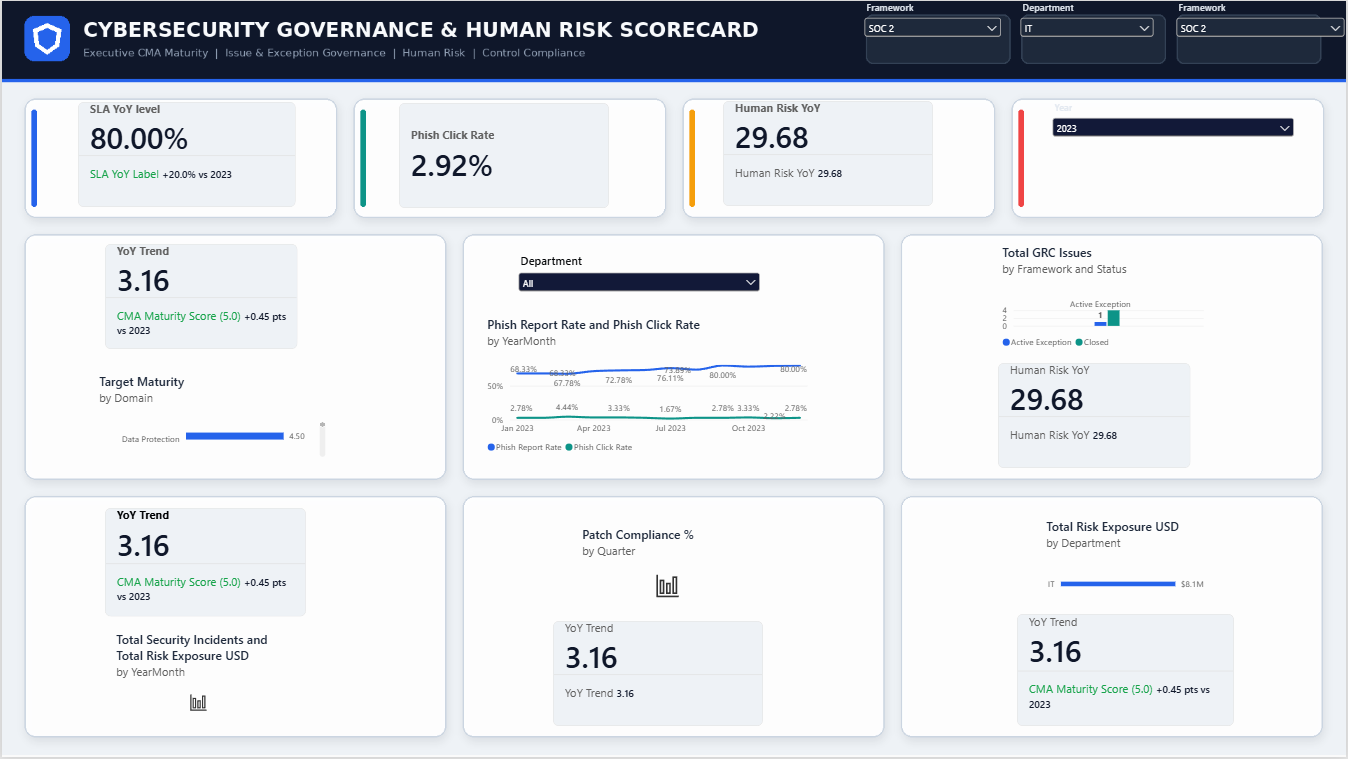

The dashboard page shown, as its layout file describes it:
{"tool":"powerbi","page":{"name":"Executive Scorecard","canvas":[1920,1080],"ordinal":0},"visuals":[{"type":"slicer","fields":{"Values":["dim_date.Year"]},"box":[1495.6,143.3,354.6,150.9],"z":0},{"type":"slicer","fields":{"Values":["fact_grc_issues_exceptions.Framework"]},"box":[1672.5,0,250,105],"z":1000},{"type":"slicer","fields":{"Values":["dim_department.Department"]},"box":[732.5,360,354.6,150.9],"z":2000},{"type":"cardVisual","fields":{"Data":["_Measures.Avg CMA Maturity"]},"box":[147.1,724.3,287.1,155.7],"z":3000},{"type":"cardVisual","fields":{"Data":["_Measures.Avg CMA Maturity"]},"box":[1450,875,310,160],"z":4000},{"type":"cardVisual","fields":{"Data":["_Measures.Avg CMA Maturity"]},"box":[147.1,347.1,275.7,150],"z":5000},{"type":"cardVisual","fields":{"Data":["_Measures.Remediation SLA %"]},"box":[108.8,144.3,311.6,150.6],"z":6000},{"type":"slicer","fields":{"Values":["dim_department.Department"]},"box":[1450,0,200,105],"z":7000},{"type":"slicer","fields":{"Values":["fact_grc_issues_exceptions.Framework"]},"box":[1227.5,0,205,105],"z":8000},{"type":"cardVisual","fields":{"Data":["_Measures.Avg CMA Maturity"]},"box":[787.5,885,300,150],"z":9000},{"type":"cardVisual","fields":{"Data":["_Measures.Avg Human Risk Score"]},"box":[1422.9,517.1,275.7,150],"z":10000},{"type":"cardVisual","fields":{"Data":["_Measures.Avg Human Risk Score"]},"box":[1030,142.5,300,150],"z":11000},{"type":"cardVisual","fields":{"Data":["_Measures.Phish Click Rate"]},"box":[567.5,145,300,150],"z":12000},{"type":"clusteredBarChart","fields":{"Category":["dim_security_domain.Domain"],"Y":["_Measures.Target Maturity"]},"box":[122.5,517.5,355,150],"z":13000},{"type":"lineChart","fields":{"Category":["dim_date.YearMonth"],"Y":["_Measures.Phish Report Rate","_Measures.Phish Click Rate"]},"box":[677.1,435.7,502.9,231.4],"z":14000},{"type":"clusteredColumnChart","fields":{"Category":["fact_grc_issues_exceptions.Framework"],"Series":["fact_grc_issues_exceptions.Status"],"Y":["_Measures.Total GRC Issues"]},"box":[1412.9,332.9,320,184.3],"z":15000},{"type":"clusteredColumnChart","fields":{"Category":["dim_date.Quarter"],"Y":["_Measures.Patch Compliance %"]},"box":[812.5,735,275,140],"z":16000},{"type":"clusteredBarChart","fields":{"Category":["dim_department.Department"],"Y":["_Measures.Total Risk Exposure USD"]},"box":[1475,725,257.5,150],"z":17000},{"type":"lineClusteredColumnComboChart","fields":{"Category":["dim_date.YearMonth"],"Y":["_Measures.Total Security Incidents"],"Y2":["_Measures.Total Risk Exposure USD"]},"box":[147.1,885.7,267.5,150],"z":18000}]}

Visuals, with their boxes in screenshot pixels (x1, y1, x2, y2), scaled from the page's 1920x1080 canvas onto the 1348x759 screenshot:
slicer - dim_date.Year: bbox=(1050, 101, 1299, 207)
slicer - fact_grc_issues_exceptions.Framework: bbox=(1174, 0, 1347, 74)
slicer - dim_department.Department: bbox=(514, 253, 763, 359)
cardVisual - _Measures.Avg CMA Maturity: bbox=(103, 509, 305, 618)
cardVisual - _Measures.Avg CMA Maturity: bbox=(1018, 615, 1236, 727)
cardVisual - _Measures.Avg CMA Maturity: bbox=(103, 244, 297, 349)
cardVisual - _Measures.Remediation SLA %: bbox=(76, 101, 295, 207)
slicer - dim_department.Department: bbox=(1018, 0, 1158, 74)
slicer - fact_grc_issues_exceptions.Framework: bbox=(862, 0, 1006, 74)
cardVisual - _Measures.Avg CMA Maturity: bbox=(553, 622, 764, 727)
cardVisual - _Measures.Avg Human Risk Score: bbox=(999, 363, 1193, 469)
cardVisual - _Measures.Avg Human Risk Score: bbox=(723, 100, 934, 206)
cardVisual - _Measures.Phish Click Rate: bbox=(398, 102, 609, 207)
clusteredBarChart - dim_security_domain.Domain x _Measures.Target Maturity: bbox=(86, 364, 335, 469)
lineChart - dim_date.YearMonth x _Measures.Phish Report Rate: bbox=(475, 306, 828, 469)
clusteredColumnChart - fact_grc_issues_exceptions.Framework x fact_grc_issues_exceptions.Status: bbox=(992, 234, 1217, 363)
clusteredColumnChart - dim_date.Quarter x _Measures.Patch Compliance %: bbox=(570, 517, 764, 615)
clusteredBarChart - dim_department.Department x _Measures.Total Risk Exposure USD: bbox=(1036, 510, 1216, 615)
lineClusteredColumnComboChart - dim_date.YearMonth x _Measures.Total Security Incidents: bbox=(103, 622, 291, 728)
